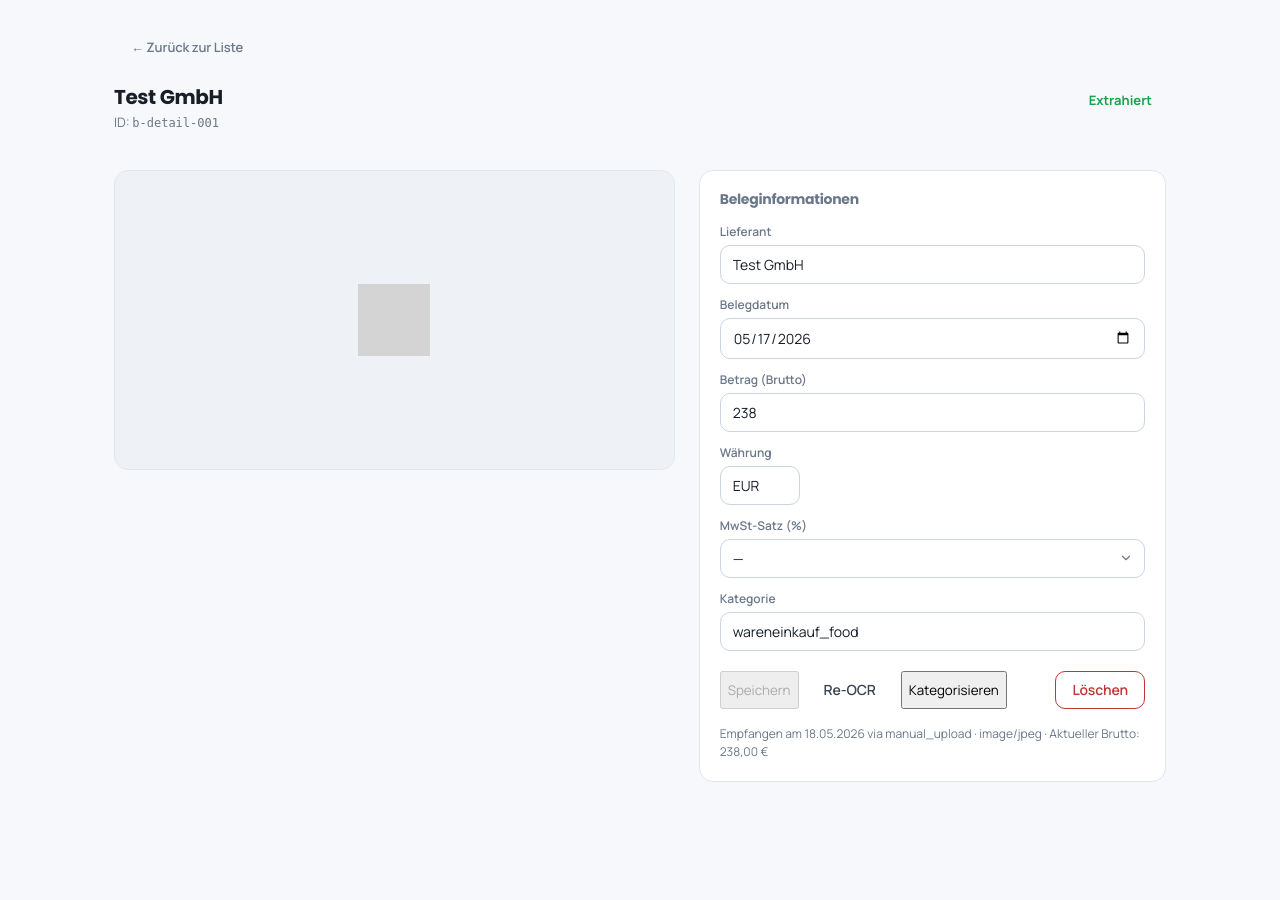
Test: BelegeDetailPage › T076: Kategorisieren mit requires_review zeigt Prüf-Toast inkl. Konfidenz
The image size is (1280, 900).
Click the button with test id "btn-categorize" at (954, 690), box [901, 671, 1007, 709]
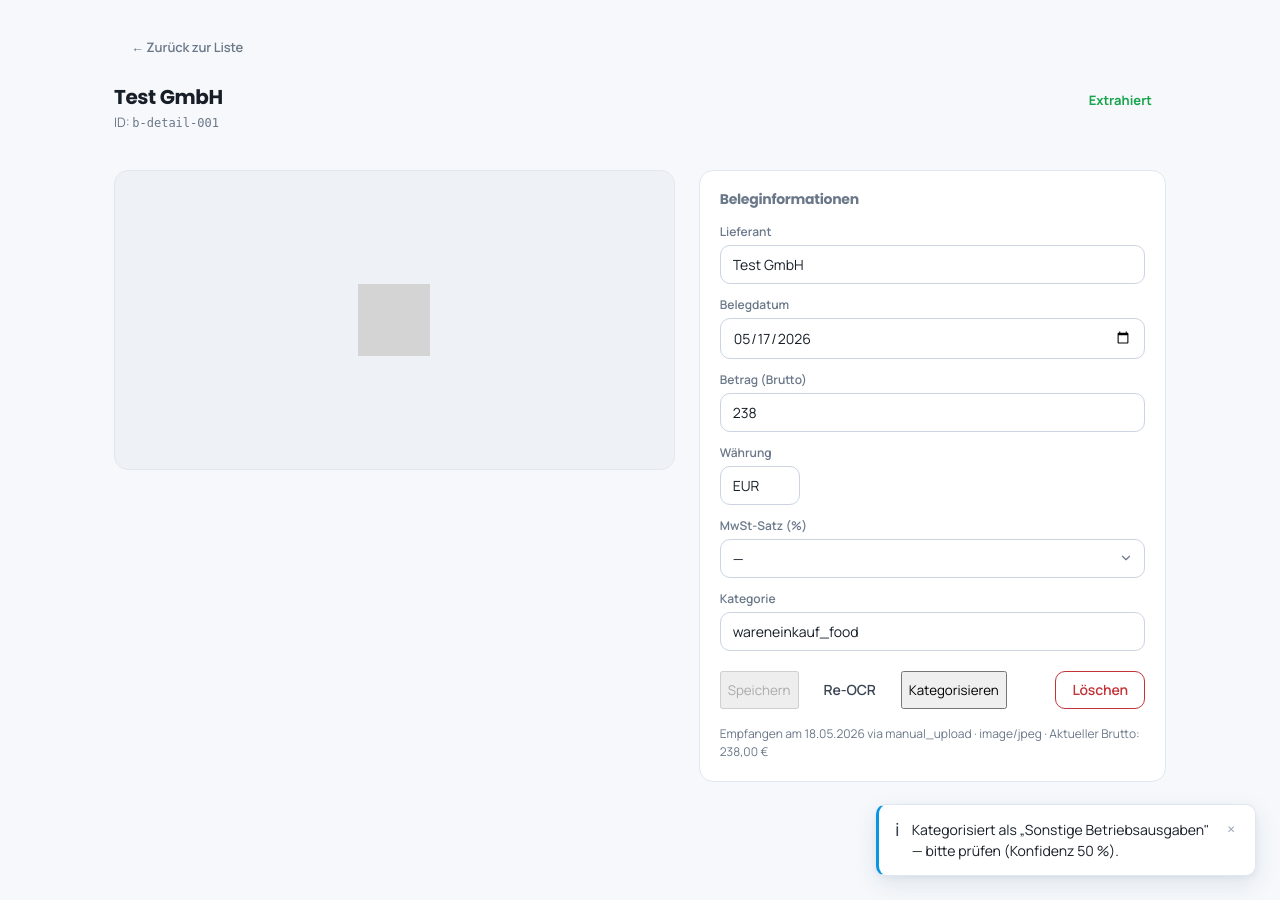
Check: the text "bitte prüfen (Konfidenz 50 %)" is shown, box [912, 820, 1209, 860]
